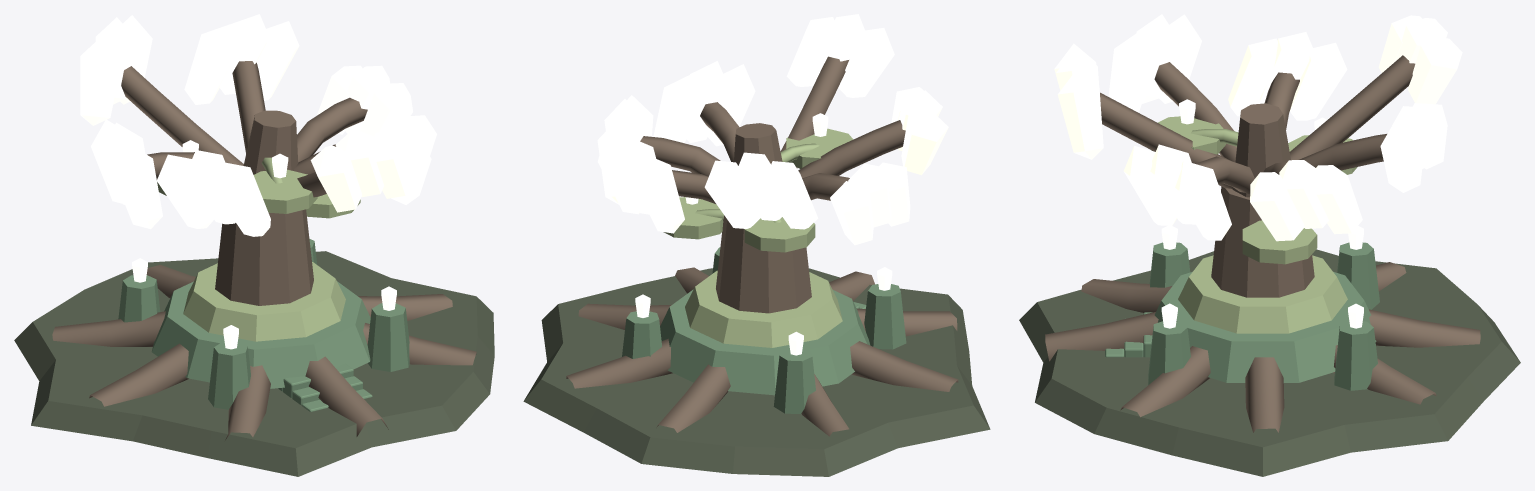
File: emerald-wilds-lod0.glb
The picture shows the model from 3 angles, left to right: view 1: azimuth 30°, elevation 25°; view 2: azimuth 150°, elevation 25°; view 3: azimuth 270°, elevation 25°; orthographic projection. The views are drawn at different scales.
Parts seen in each view (by area): view 1: STONE_TERRAIN_SOCKET, STONE_TEMPLE_TERRACE_LOWER, ORGANIC_TRUNK_LOWER, TRIM_TEMPLE_TERRACE_UPPER, FX_FOLIAGE_BRANCH_2, FX_FOLIAGE_BLADE_3_2, FX_FOLIAGE_BLADE_2_2, ORGANIC_BUTTRESS_ROOT_4, FX_FOLIAGE_BLADE_1_2, ORGANIC_BUTTRESS_ROOT_3, FX_FOLIAGE_BLADE_4_2, STONE_ROOT_SHRINE_3 (+30 smaller); view 2: STONE_TERRAIN_SOCKET, STONE_TEMPLE_TERRACE_LOWER, TRIM_TEMPLE_TERRACE_UPPER, ORGANIC_TRUNK_LOWER, ORGANIC_BUTTRESS_ROOT_4, FX_FOLIAGE_BLADE_1_2, FX_FOLIAGE_BRANCH_4, ORGANIC_BUTTRESS_ROOT_1, FX_FOLIAGE_BLADE_5_0, STONE_ROOT_SHRINE_2, ORGANIC_BUTTRESS_ROOT_2, FX_FOLIAGE_BLADE_6_2 (+32 smaller); view 3: STONE_TERRAIN_SOCKET, STONE_TEMPLE_TERRACE_LOWER, TRIM_TEMPLE_TERRACE_UPPER, ORGANIC_TRUNK_LOWER, FX_FOLIAGE_BRANCH_2, ORGANIC_TRUNK_UPPER, FX_FOLIAGE_BLADE_5_2, ORGANIC_BUTTRESS_ROOT_2, FX_FOLIAGE_BLADE_6_2, FX_FOLIAGE_BRANCH_5, ORGANIC_BUTTRESS_ROOT_6, FX_FOLIAGE_BLADE_3_0 (+32 smaller).
Part boxes in pixels (left/top/right/bottom): STONE_TERRAIN_SOCKET: left=14, top=251, right=494, bottom=476; STONE_TEMPLE_TERRACE_LOWER: left=151, top=281, right=370, bottom=388; ORGANIC_TRUNK_LOWER: left=215, top=209, right=313, bottom=305; TRIM_TEMPLE_TERRACE_UPPER: left=183, top=262, right=345, bottom=341; FX_FOLIAGE_BRANCH_2: left=121, top=66, right=243, bottom=165; FX_FOLIAGE_BLADE_3_2: left=111, top=143, right=162, bottom=229; FX_FOLIAGE_BLADE_2_2: left=80, top=36, right=122, bottom=125; ORGANIC_BUTTRESS_ROOT_4: left=89, top=343, right=188, bottom=406; FX_FOLIAGE_BLADE_1_2: left=184, top=24, right=236, bottom=104; ORGANIC_BUTTRESS_ROOT_3: left=52, top=311, right=165, bottom=346; FX_FOLIAGE_BLADE_4_2: left=217, top=162, right=270, bottom=236; STONE_ROOT_SHRINE_3: left=367, top=303, right=409, bottom=371; STONE_TERRAIN_SOCKET: left=523, top=268, right=990, bottom=476; STONE_TEMPLE_TERRACE_LOWER: left=660, top=289, right=870, bottom=395; TRIM_TEMPLE_TERRACE_UPPER: left=685, top=270, right=842, bottom=347; ORGANIC_TRUNK_LOWER: left=716, top=215, right=811, bottom=313; ORGANIC_BUTTRESS_ROOT_4: left=850, top=341, right=958, bottom=391; FX_FOLIAGE_BLADE_1_2: left=632, top=153, right=684, bottom=233; FX_FOLIAGE_BRANCH_4: left=798, top=120, right=905, bottom=178; ORGANIC_BUTTRESS_ROOT_1: left=566, top=338, right=672, bottom=388; FX_FOLIAGE_BLADE_5_0: left=838, top=28, right=894, bottom=97; STONE_ROOT_SHRINE_2: left=864, top=284, right=906, bottom=349; ORGANIC_BUTTRESS_ROOT_2: left=656, top=364, right=730, bottom=432; FX_FOLIAGE_BLADE_6_2: left=653, top=74, right=703, bottom=143; STONE_TERRAIN_SOCKET: left=1019, top=249, right=1520, bottom=476; STONE_TEMPLE_TERRACE_LOWER: left=1154, top=271, right=1376, bottom=382; TRIM_TEMPLE_TERRACE_UPPER: left=1178, top=255, right=1347, bottom=333; ORGANIC_TRUNK_LOWER: left=1211, top=186, right=1314, bottom=297; FX_FOLIAGE_BRANCH_2: left=1289, top=55, right=1415, bottom=160; ORGANIC_TRUNK_UPPER: left=1232, top=103, right=1290, bottom=197; FX_FOLIAGE_BLADE_5_2: left=1057, top=69, right=1103, bottom=159; ORGANIC_BUTTRESS_ROOT_2: left=1369, top=309, right=1480, bottom=347; FX_FOLIAGE_BLADE_6_2: left=1175, top=160, right=1231, bottom=240; FX_FOLIAGE_BRANCH_5: left=1100, top=92, right=1232, bottom=188; ORGANIC_BUTTRESS_ROOT_6: left=1045, top=312, right=1158, bottom=361; FX_FOLIAGE_BLADE_3_0: left=1290, top=42, right=1347, bottom=120.
Size of the model in its own units: 1.99 by 1.27 by 1.83.
